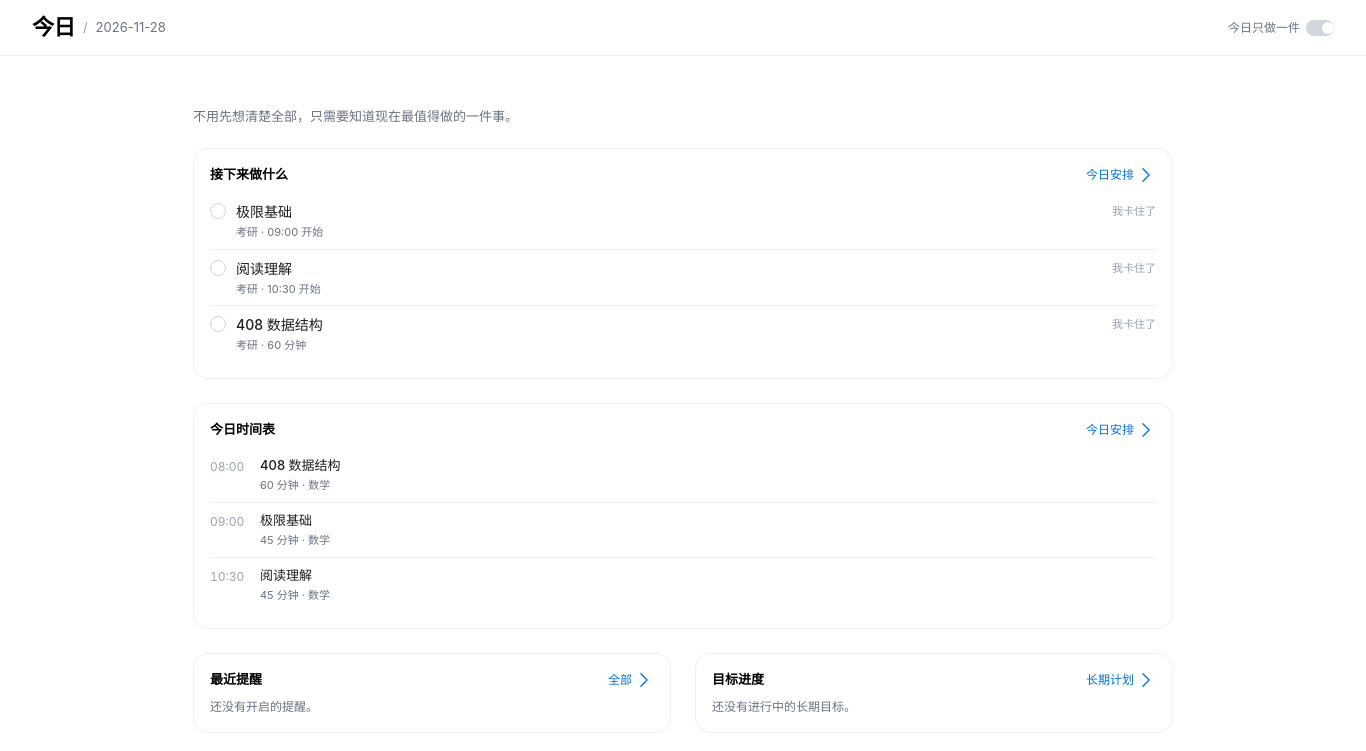
Test: 今日只做一件 › turning the mode off restores the full day and forgets the choice
Step 1. Click the switch labelled "今日只做一件" → (1281, 28), box [1228,18,1334,36]
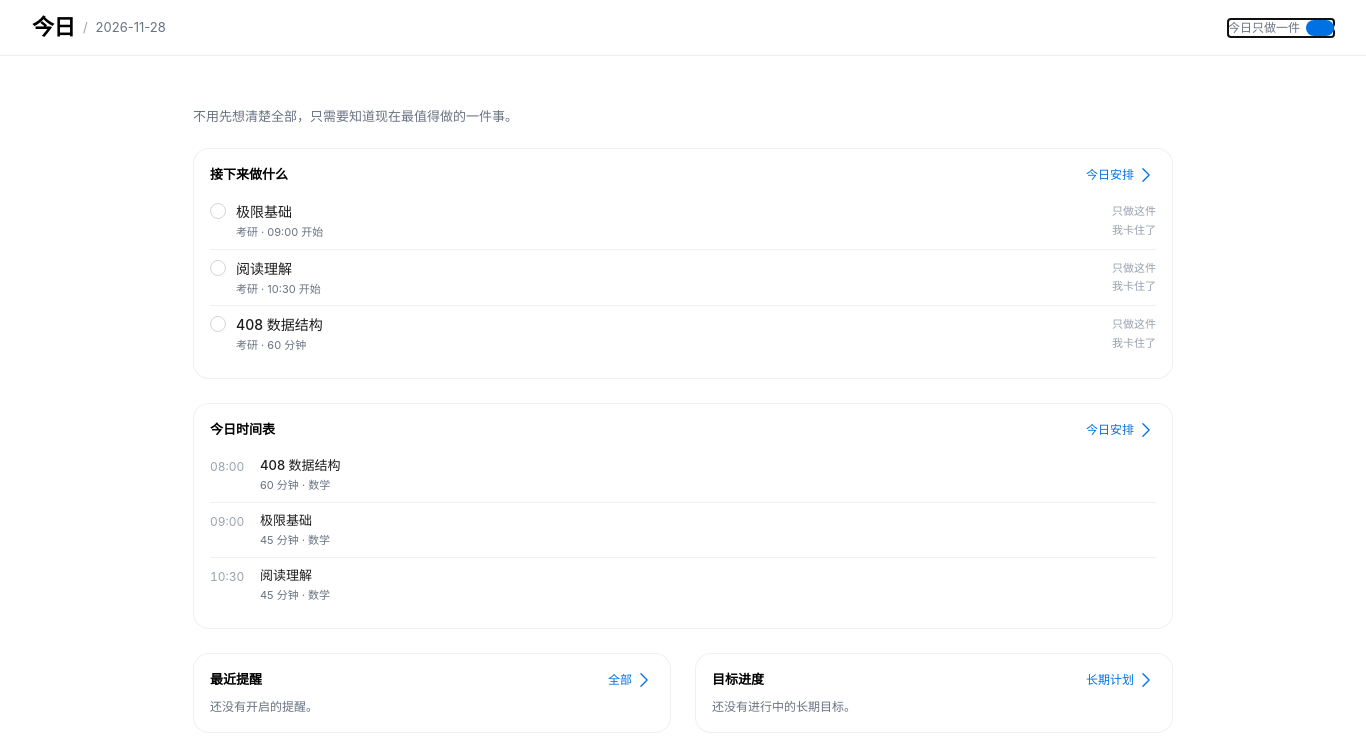
Step 2. Click the button with aria-label "只做这件：阅读理解" → (1134, 268), box [1112,260,1156,276]
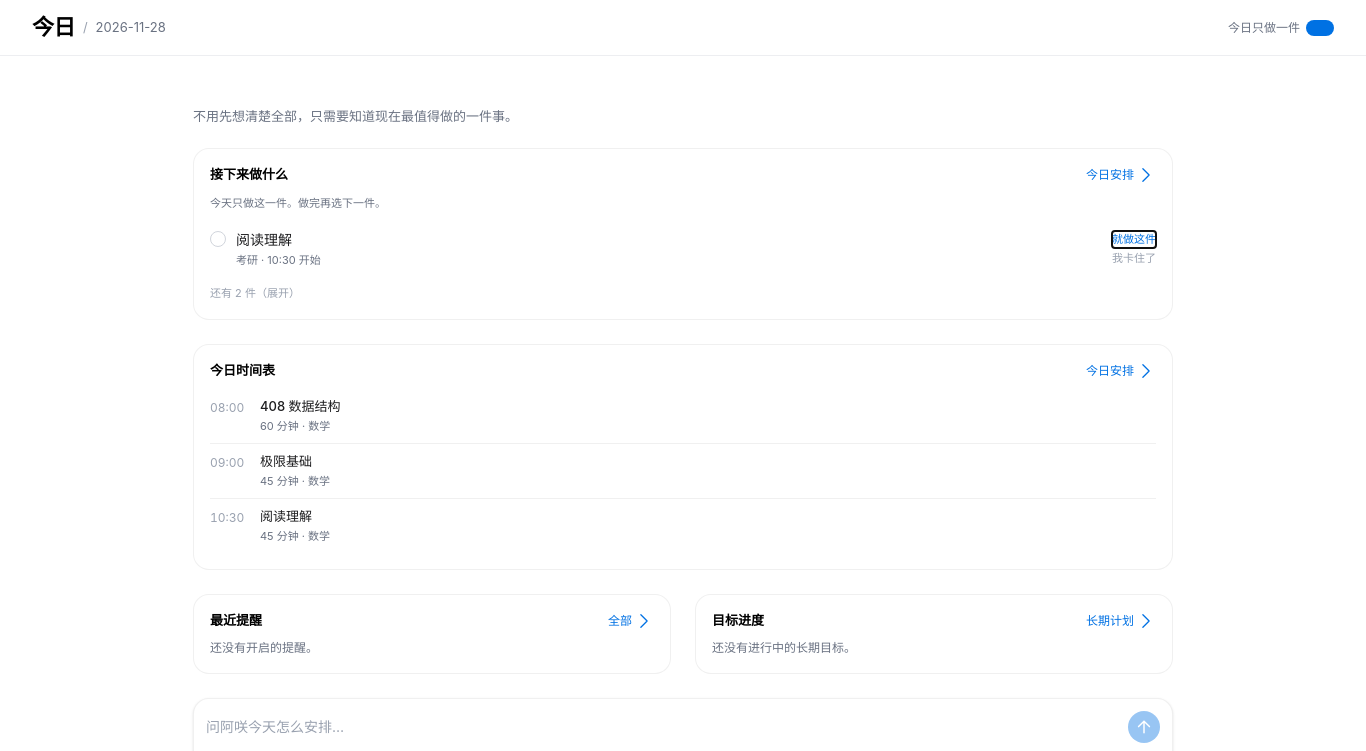
Step 3. Click the switch labelled "今日只做一件" → (1281, 28), box [1228,18,1334,36]
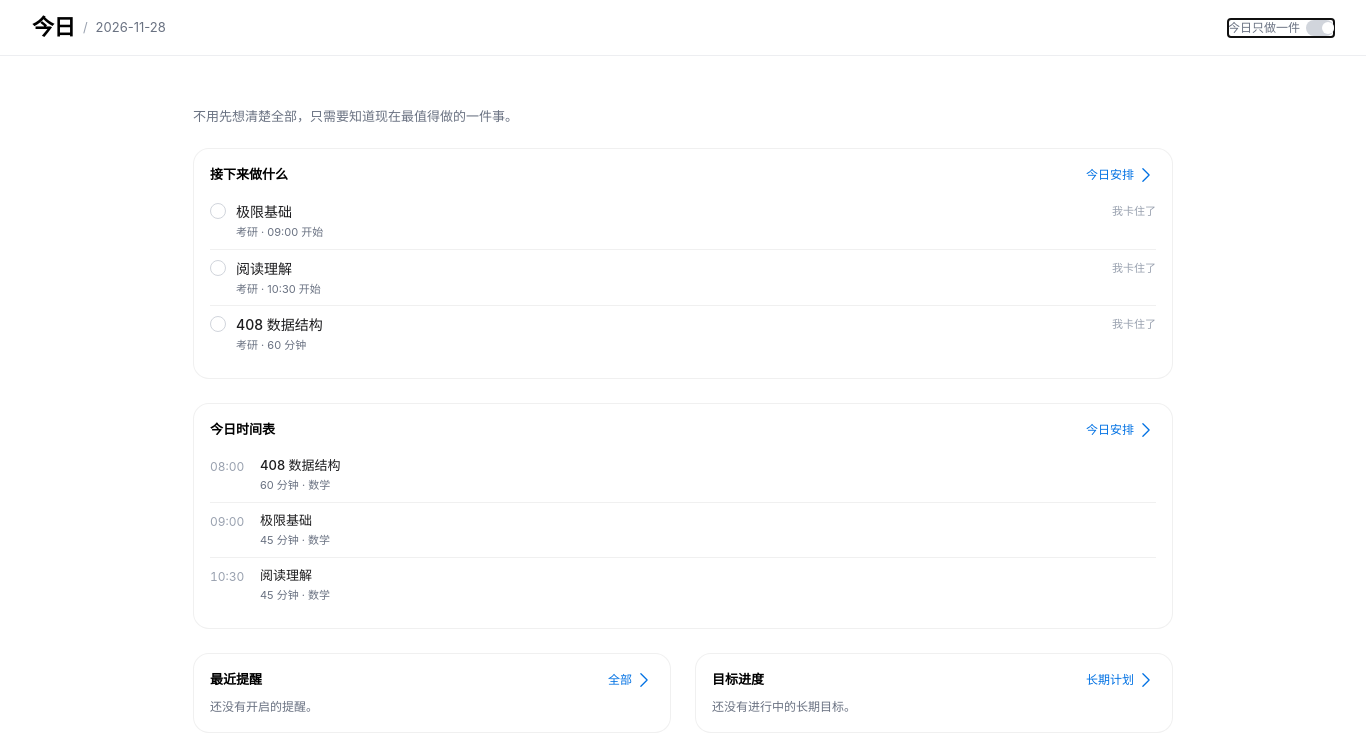
Expected: the button "只做这件" is not shown
Expected: the number of checkboxes is 3, [210,203,226,219]; [210,260,226,276]; [210,316,226,332]
Expected: the text "今天只做这一件" is gone
